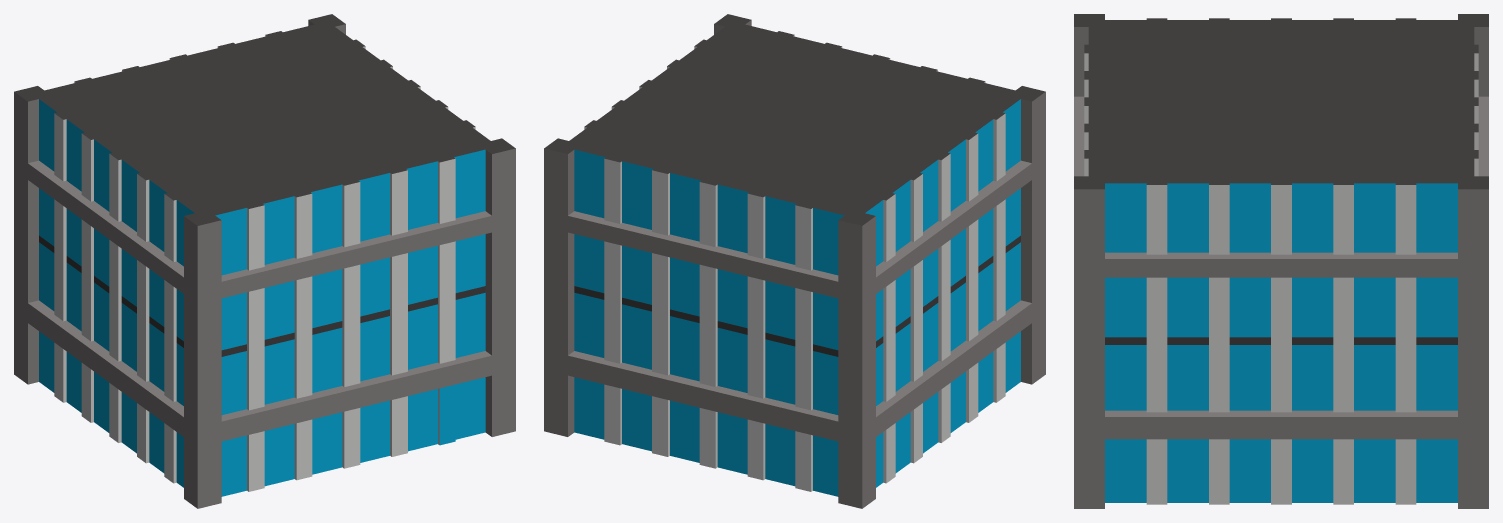
Rendered from Building_2.fbx.
3 renders of one model, left to right at view 1: azimuth 30°, elevation 25°; view 2: azimuth 150°, elevation 25°; view 3: azimuth 270°, elevation 25°, orthographic. The views are drawn at different scales.
Parts seen in each view (by area): view 1: Building_Mesh_2; view 2: Building_Mesh_2; view 3: Building_Mesh_2.
Boxes of the visible parts, box(x1,y1,x2,y2) form: Building_Mesh_2: box(14, 14, 515, 508); Building_Mesh_2: box(544, 14, 1045, 508); Building_Mesh_2: box(1074, 14, 1488, 508).
Bounding box in the file's own units: 2.43 × 2.07 × 2.43.
